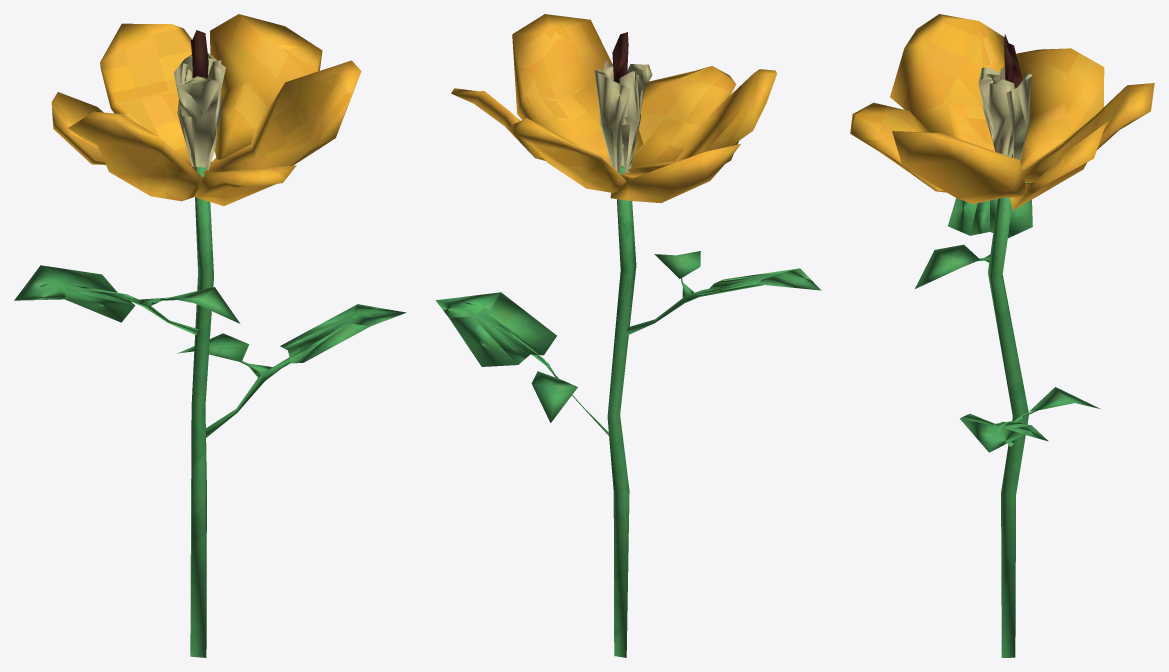
The model's file is yellow_lily.fbx.
3 renders of one model, left to right at view 1: azimuth 30°, elevation 25°; view 2: azimuth 150°, elevation 25°; view 3: azimuth 270°, elevation 25°, orthographic.
Parts seen in each view (by area): view 1: yellow_lily; view 2: yellow_lily; view 3: yellow_lily.
Part boxes in pixels (x1,y1,x2,y2): yellow_lily: (14, 14, 406, 657); yellow_lily: (435, 14, 821, 657); yellow_lily: (850, 14, 1154, 657).
Size of the model in its own units: 30.86 by 47.37 by 21.07.
